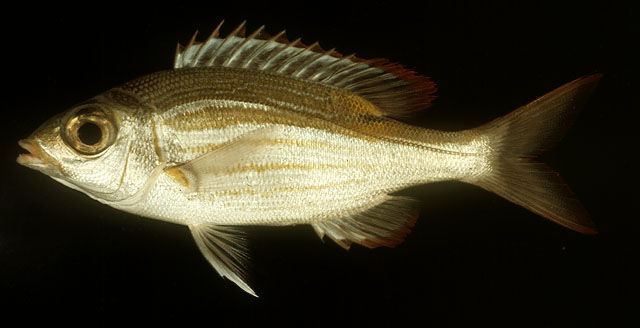fish: (17, 20, 610, 298)
